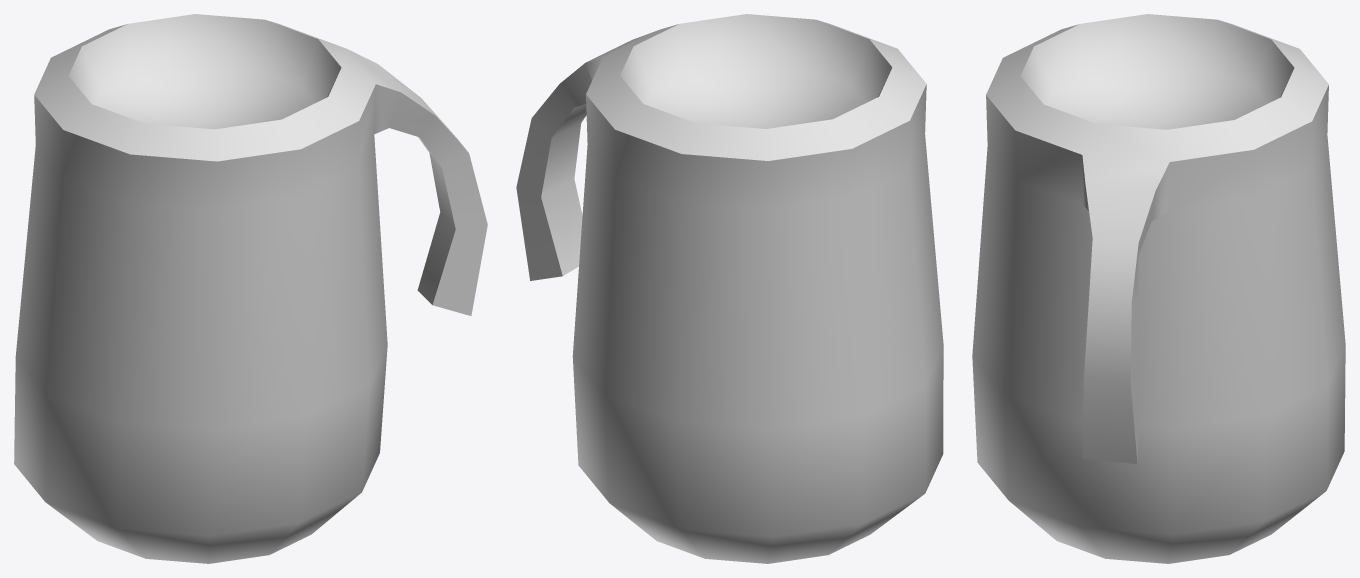
The model's file is PT_Pot_18.fbx.
3 renders of one model, left to right at view 1: azimuth 30°, elevation 25°; view 2: azimuth 150°, elevation 25°; view 3: azimuth 270°, elevation 25°, orthographic.
Visible parts, largest first — view 1: PT_Pot_18; view 2: PT_Pot_18; view 3: PT_Pot_18.
Boxes of the visible parts, bbox=[...] form: PT_Pot_18: bbox=[14, 14, 487, 563]; PT_Pot_18: bbox=[516, 14, 943, 563]; PT_Pot_18: bbox=[972, 14, 1345, 563].
Size of the model in its own units: 14.06 by 14.34 by 10.82.
1 material, 1 textured.
